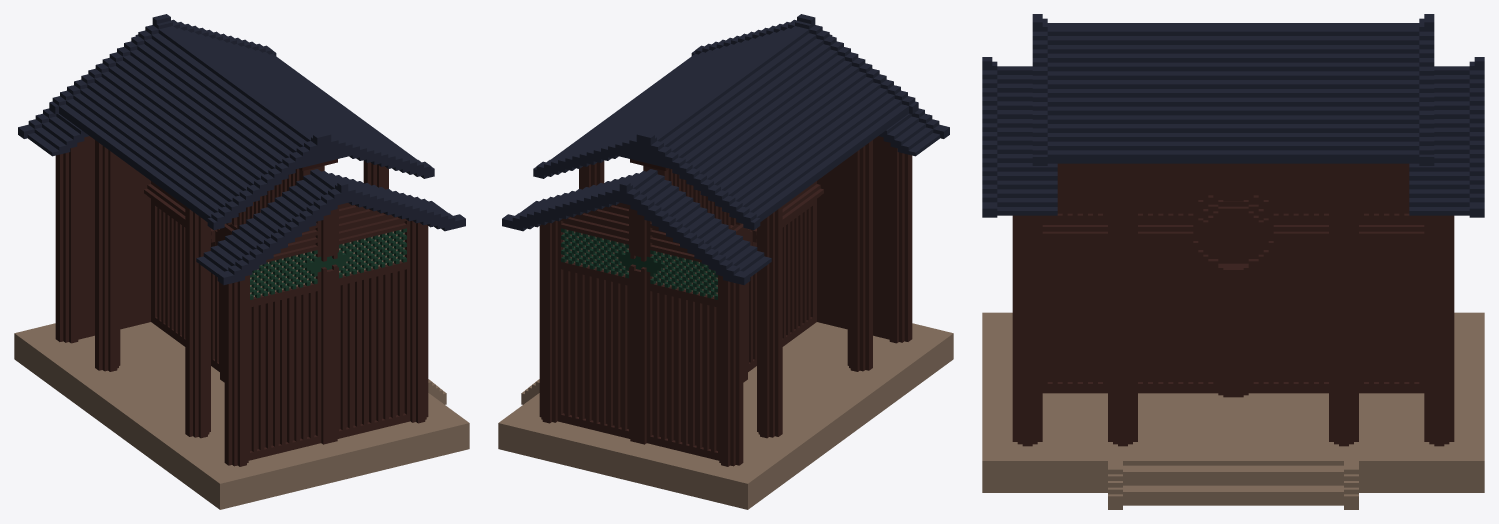
File: Korean castle_door_01.FBX
The picture shows the model from 3 angles, left to right: view 1: azimuth 30°, elevation 25°; view 2: azimuth 150°, elevation 25°; view 3: azimuth 270°, elevation 25°; orthographic projection. The views are drawn at different scales.
Parts seen in each view (by area): view 1: Voxel_Korean_traditional castle-12; view 2: Voxel_Korean_traditional castle-12; view 3: Voxel_Korean_traditional castle-12.
Part boxes in pixels (x1,y1,x2,y2): Voxel_Korean_traditional castle-12: (14,14,469,509); Voxel_Korean_traditional castle-12: (498,14,953,509); Voxel_Korean_traditional castle-12: (982,14,1484,509).
Size of the model in its own units: 156 by 176 by 200.
Materials: 1 (1 with a texture image).
